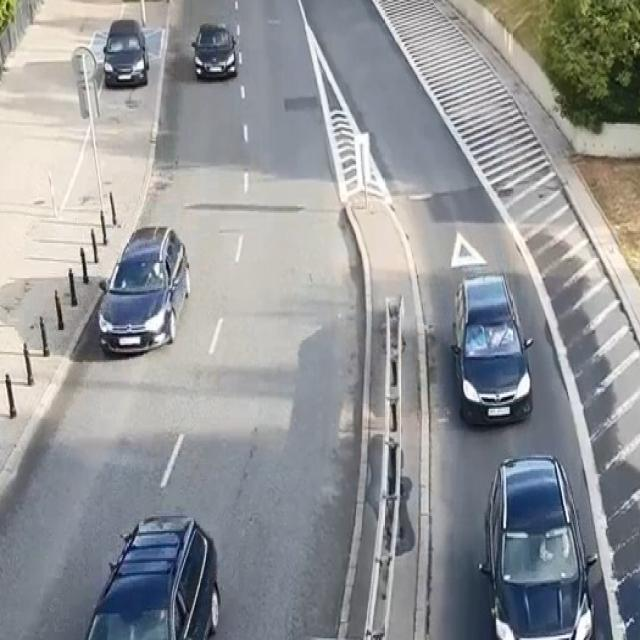car: (481, 456, 594, 640), (86, 518, 219, 639), (452, 275, 532, 424), (98, 229, 190, 353), (104, 20, 149, 87), (191, 25, 238, 78)
